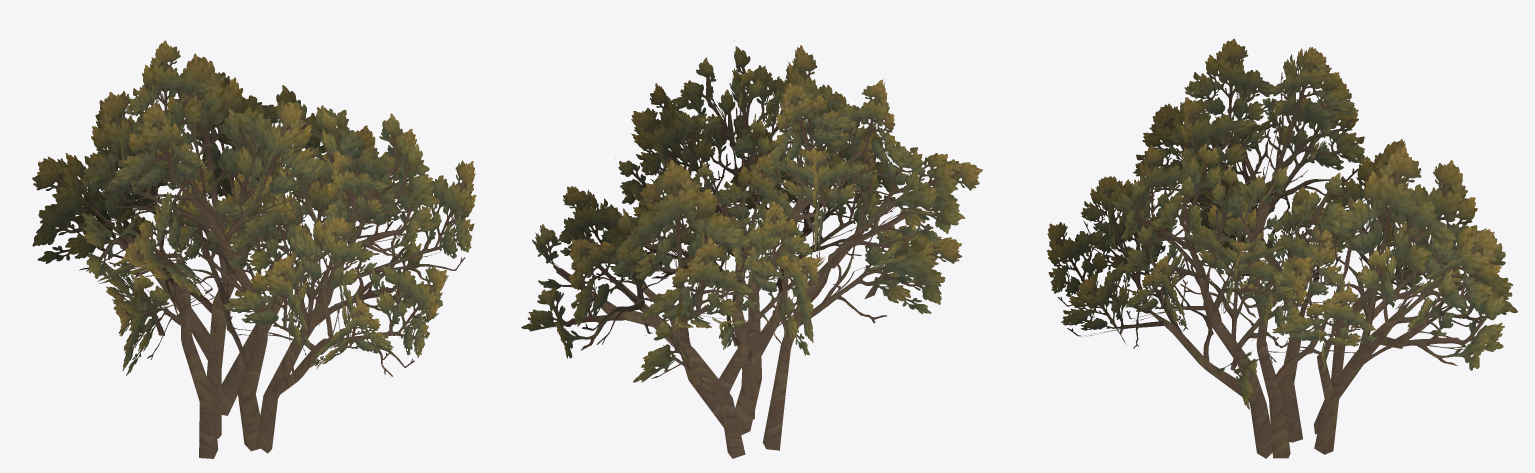
The picture shows the model from 3 angles, left to right: view 1: azimuth 30°, elevation 25°; view 2: azimuth 150°, elevation 25°; view 3: azimuth 270°, elevation 25°; orthographic projection. The views are drawn at different scales.
Bounding box in the file's own units: 5.89 × 6.35 × 6.92.
1 material, 1 textured.
